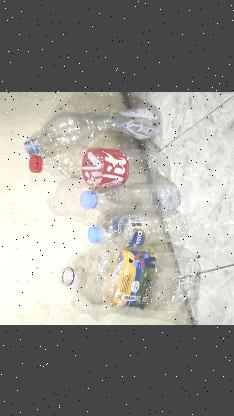Plastic Bottle: (59, 244, 201, 310), (12, 102, 158, 160), (27, 144, 158, 186), (78, 206, 192, 254), (80, 183, 180, 216)
